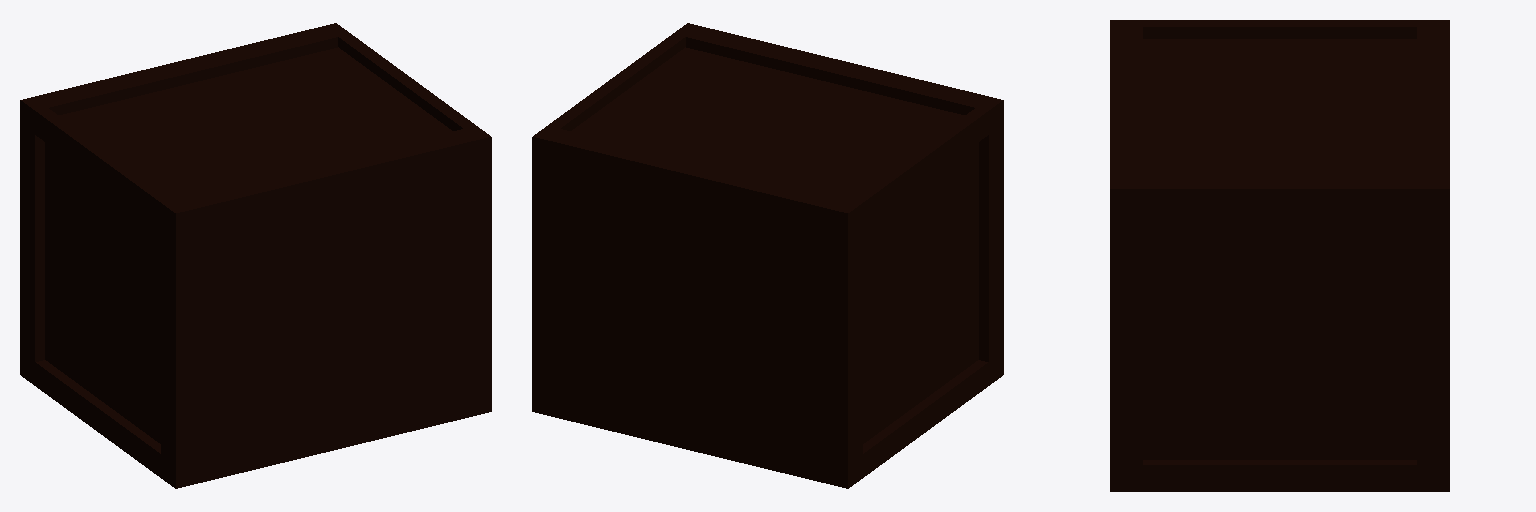
URDF robot description (crate):
<?xml version="1.0"?>
<robot name="crate">
  <link name="base_link">
  <inertial>
      <mass value="1.0"/> <!-- Set a reasonable mass value -->
      <origin xyz="0 0 0" rpy="0 0 0"/> <!-- Place the center of mass -->
      <inertia
        ixx="0.01" ixy="0" ixz="0"
        iyy="0.01" iyz="0"
        izz="0.01"/>
    </inertial>
    <visual>
      <geometry>
        <mesh filename="package://custom_world/meshes/crate.dae"/>
      </geometry>
    </visual>
    <collision>
      <geometry>
        <mesh filename="package://custom_world/meshes/crate.dae" scale="1 1 1"/>
      </geometry>
    </collision>
  </link>
</robot>

--- Render facts (derived) ---
3 views of the same robot in one strip: view 1: azimuth 30°, elevation 25°; view 2: azimuth 150°, elevation 25°; view 3: azimuth 270°, elevation 25° (orthographic).
Model crate with 1 links and 0 joints (none), rooted at base_link, posed all joints at 0.
Visible links, largest first — view 1: base_link; view 2: base_link; view 3: base_link.
Link boxes in pixels (<box>): base_link: <box>20,23,491,488</box>; base_link: <box>532,23,1003,488</box>; base_link: <box>1110,20,1449,491</box>.
Bounding box of the posed robot: 12.19 × 10.38 × 10.16 m (x, y, z).
Meshes: 1 distinct files referenced, 1 mesh visuals loaded (1 Collada DAE).
